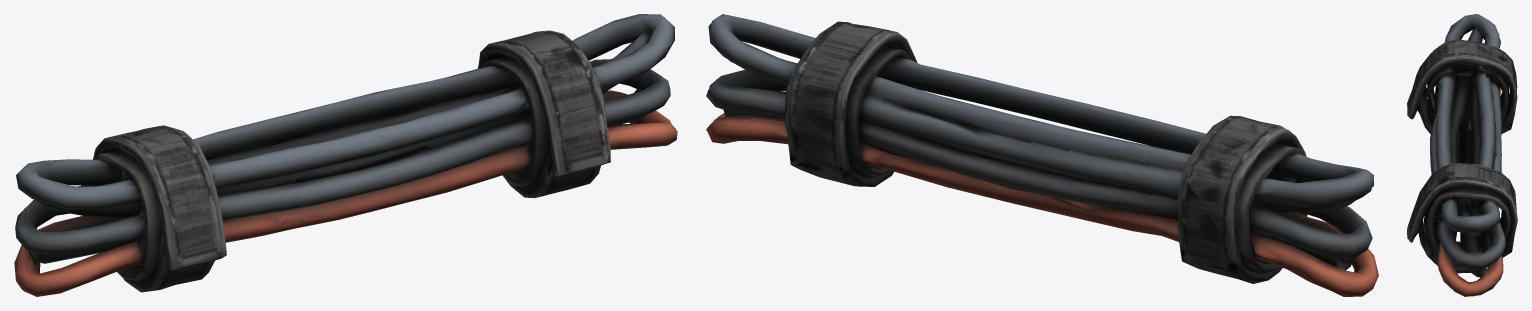
File: serverroom_CableManagementArm.glb
3 views of the same model, side by side, from view 1: azimuth 30°, elevation 25°; view 2: azimuth 150°, elevation 25°; view 3: azimuth 270°, elevation 25° (orthographic). The views are drawn at different scales.
Parts seen in each view (by area): view 1: world; view 2: world; view 3: world.
Part boxes in pixels (x1,y1,x2,y2): world: (14,14,677,296); world: (706,14,1378,296); world: (1407,14,1517,296).
Size of the model in its own units: 0.9967 by 0.2132 by 0.2232.
1 material, 1 textured.
